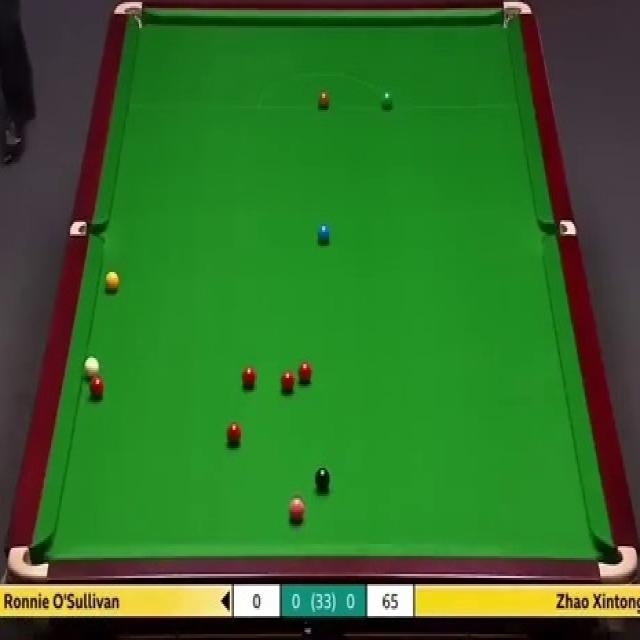black-ball: (315, 467, 331, 492)
blue-ball: (316, 222, 331, 245)
brown-ball: (317, 91, 330, 110)
green-ball: (381, 90, 393, 112)
pink-ball: (287, 497, 306, 524)
red-ball: (242, 364, 258, 392), (225, 422, 243, 446), (280, 370, 296, 397), (89, 376, 104, 402), (298, 361, 312, 386)
white-ball: (83, 354, 97, 378)
yellow-ball: (104, 270, 119, 294)
